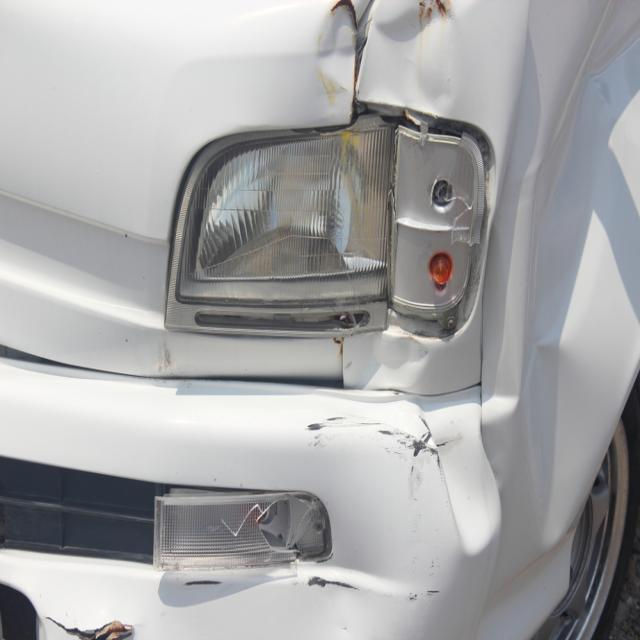crack: (48, 617, 133, 640)
dent: (521, 0, 640, 544), (313, 0, 478, 115), (263, 528, 403, 640), (416, 385, 498, 555), (351, 331, 427, 394)
lamp broken: (177, 117, 488, 325), (154, 489, 333, 571)
scratch: (293, 407, 439, 498)
